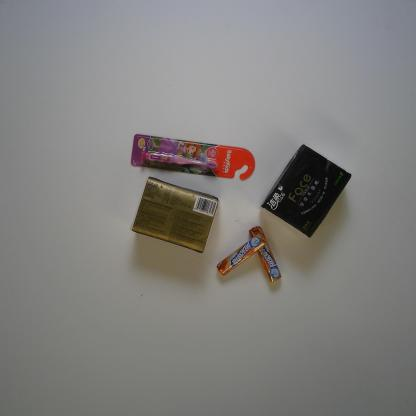Candy: (216, 232, 266, 276), (249, 225, 282, 283)
Personal Hygiene: (131, 134, 256, 180)
Tissue: (260, 144, 352, 238), (130, 177, 218, 254)
